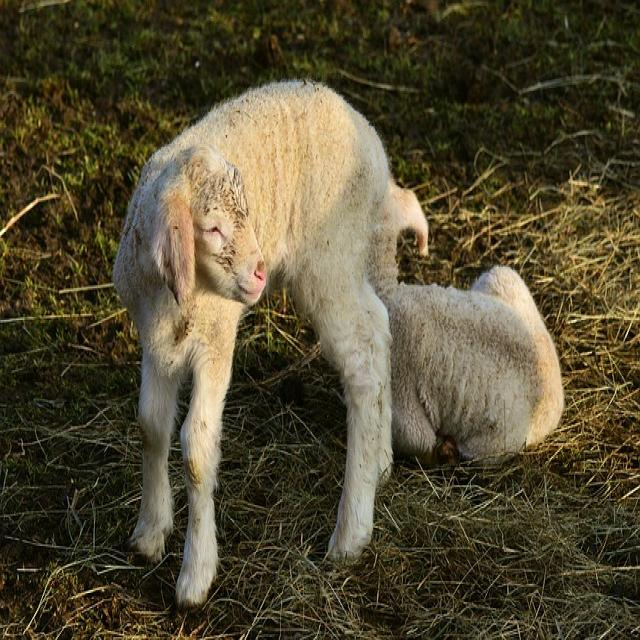goat: (112, 80, 430, 611), (377, 265, 565, 472)
